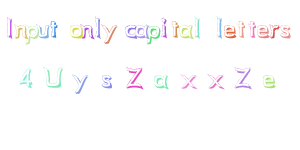4: (17, 66, 35, 90)
I: (3, 14, 18, 40)
U: (42, 66, 64, 87)
Z: (123, 65, 144, 89), (233, 65, 252, 89)
a: (153, 74, 169, 89), (179, 24, 194, 39), (134, 24, 149, 38)
c: (124, 24, 137, 39)
e: (222, 22, 237, 40), (261, 74, 276, 89), (256, 23, 269, 39)
i: (159, 16, 169, 38)
l: (213, 15, 224, 40), (193, 17, 203, 39), (94, 15, 102, 39)
n: (80, 21, 94, 40), (13, 23, 28, 40)
o: (68, 23, 83, 39)
p: (146, 24, 161, 45), (24, 24, 39, 44)
r: (269, 22, 279, 39)
s: (279, 23, 292, 39), (100, 73, 113, 89)
t: (236, 18, 246, 39), (246, 18, 256, 39), (169, 19, 180, 38), (49, 18, 58, 38)
u: (36, 22, 50, 40)
x: (207, 72, 225, 90), (179, 72, 198, 89)
y: (101, 23, 118, 45), (71, 73, 88, 95)
